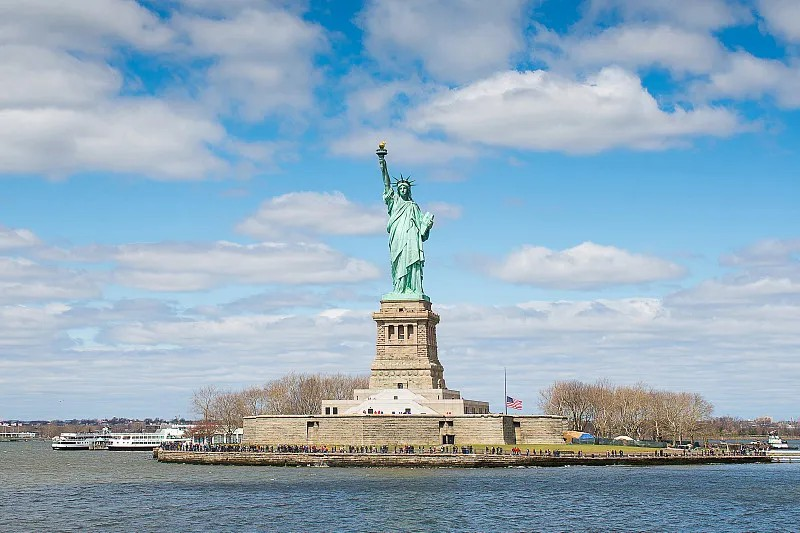SL: (368, 139, 447, 389)
